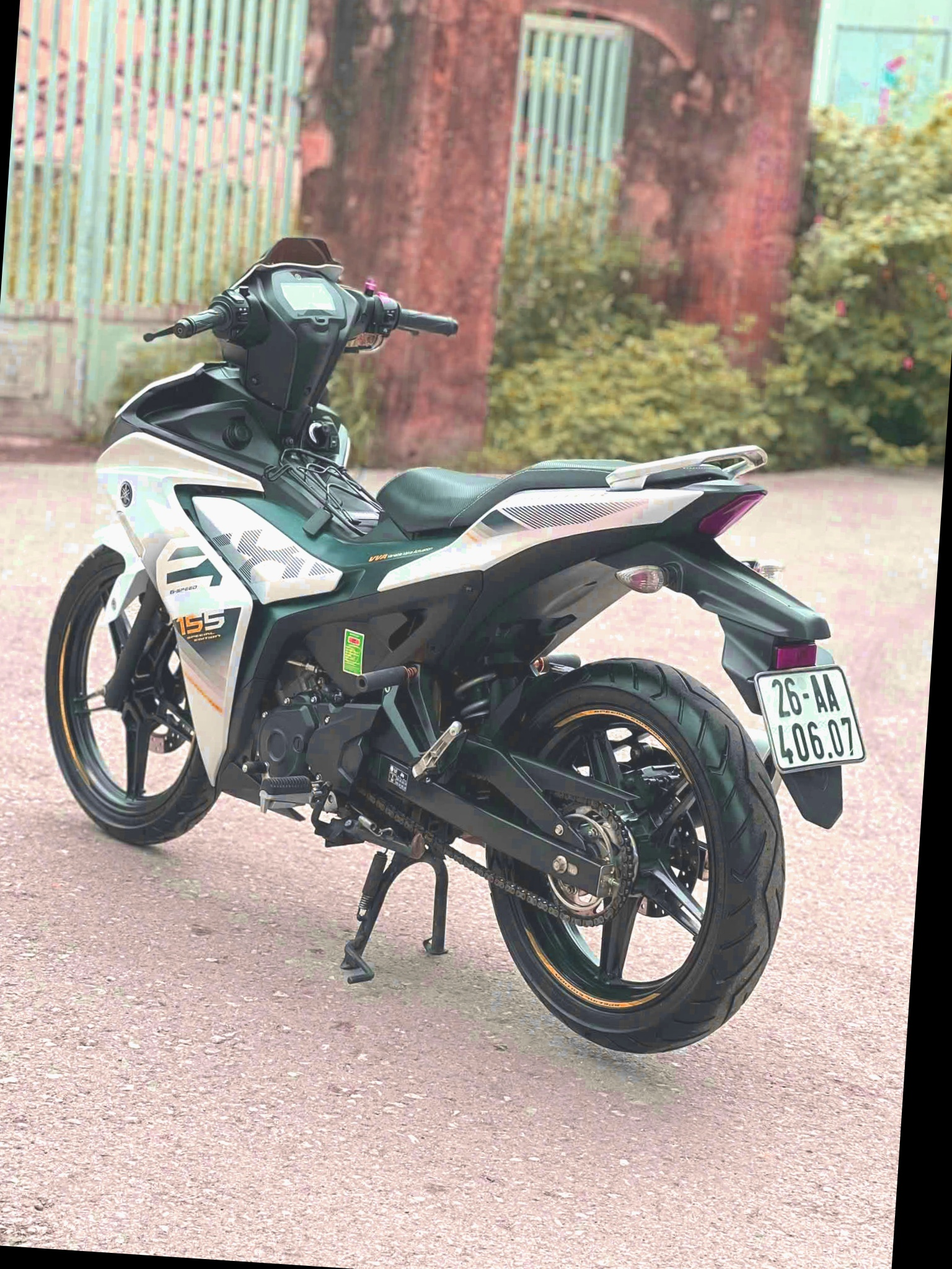Bien-so: (753, 663, 872, 774)
